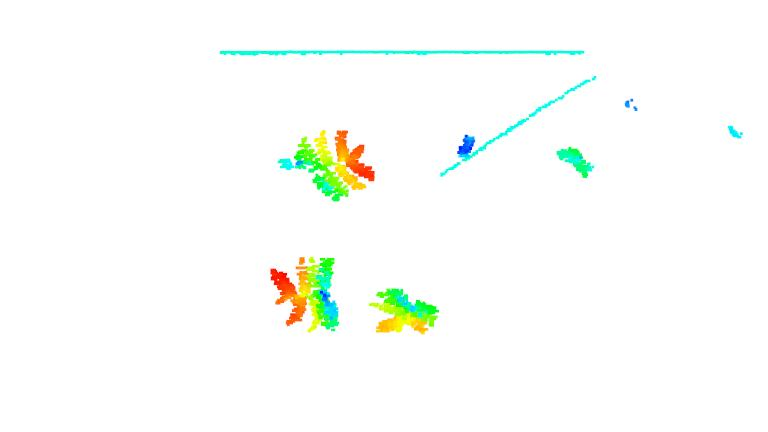chickpea: (276, 128, 376, 206), (267, 254, 343, 333), (368, 285, 441, 340), (557, 139, 602, 180)
